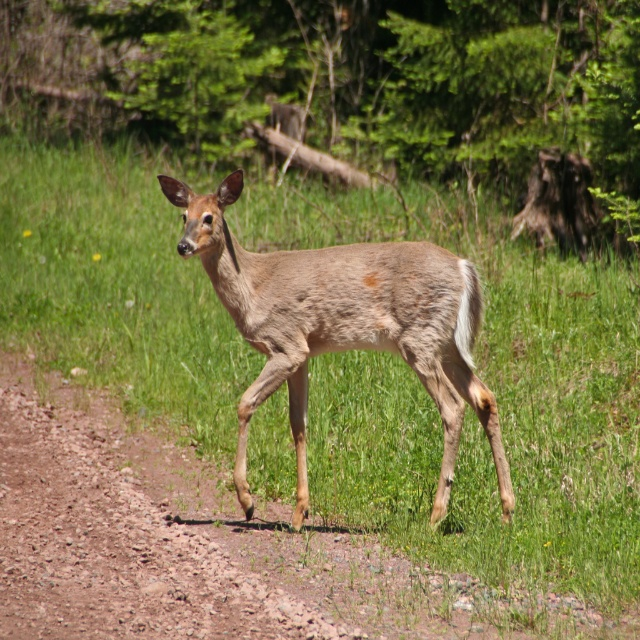Deer: (156, 167, 517, 530)
